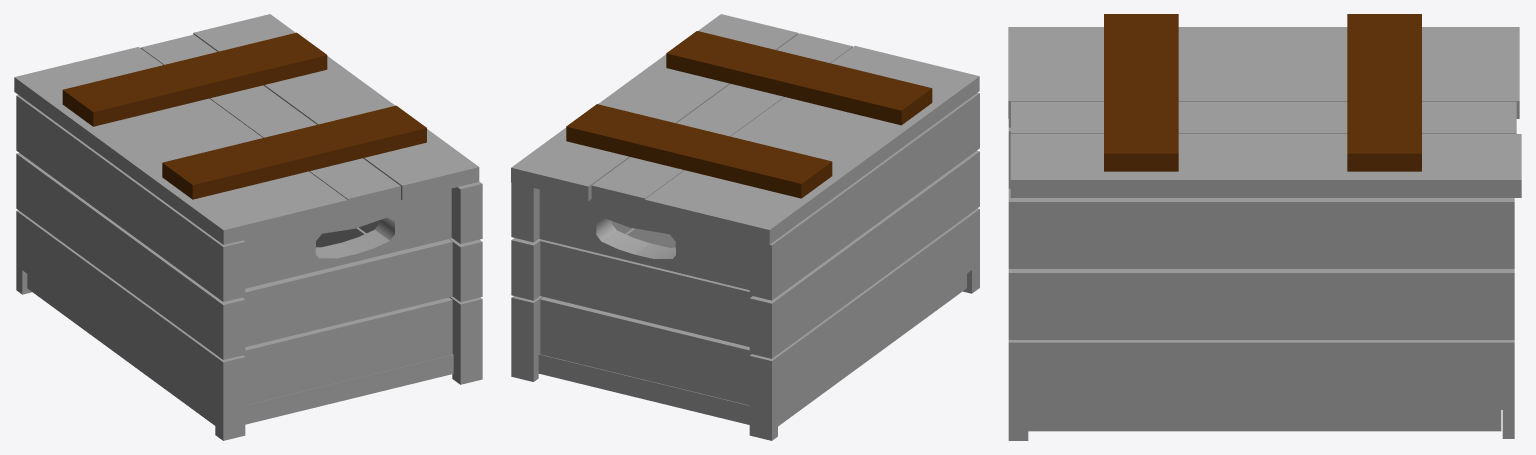
Rendered from Lift_Lid_Crate_Updated.fbx.
3 views of the same model, side by side, from view 1: azimuth 30°, elevation 25°; view 2: azimuth 150°, elevation 25°; view 3: azimuth 270°, elevation 25° (orthographic). The views are drawn at different scales.
Visible parts, largest first — view 1: Crate1_LiftLid:Bottom1; view 2: Crate1_LiftLid:Bottom1; view 3: Crate1_LiftLid:Bottom1.
Part boxes in pixels (x1,y1,x2,y2): Crate1_LiftLid:Bottom1: (14, 14, 482, 440); Crate1_LiftLid:Bottom1: (511, 14, 979, 440); Crate1_LiftLid:Bottom1: (1008, 14, 1521, 440).
Size of the model in its own units: 1.59 by 1.33 by 2.24.
